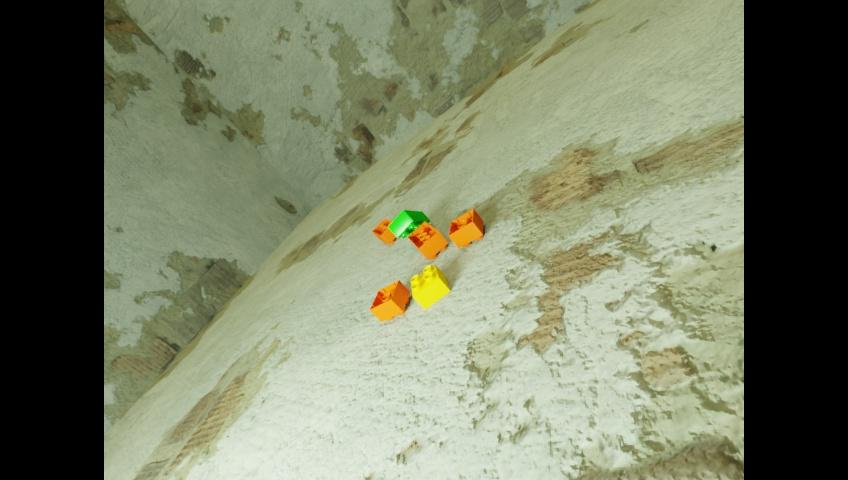2x2_orange: (369, 279, 409, 321), (448, 208, 482, 248)
2x2_yellow: (410, 263, 449, 309)
4x2_green: (388, 209, 429, 237)
4x2_orange: (407, 220, 447, 259), (371, 218, 395, 244)
